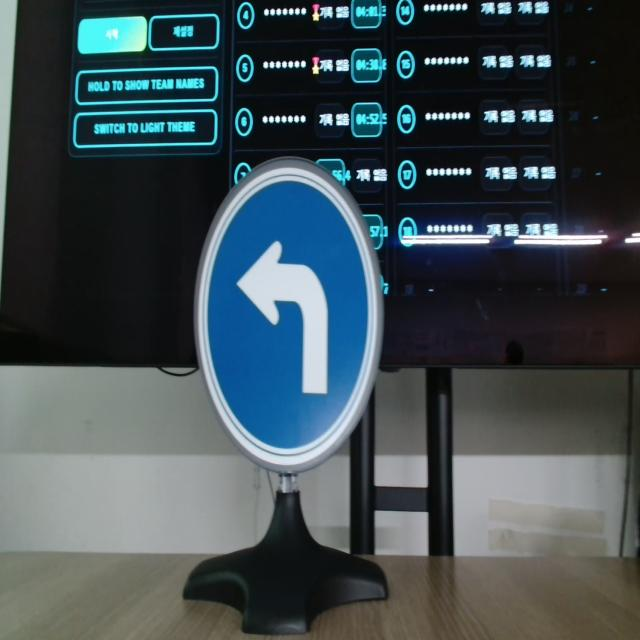left_direction: (184, 152, 389, 470)
